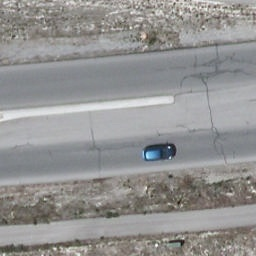car: (143, 145, 176, 160)
